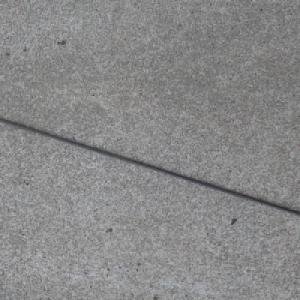LuggagePart: (0, 117, 300, 216)
